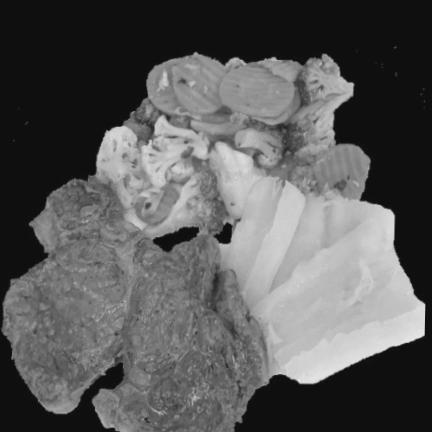broccoli: (185, 56, 358, 198), (140, 168, 229, 241)
carrot: (146, 54, 320, 124), (318, 144, 371, 200)
cassava: (224, 181, 425, 378)
cauliflower: (99, 117, 270, 219)
meat: (5, 180, 277, 432)
